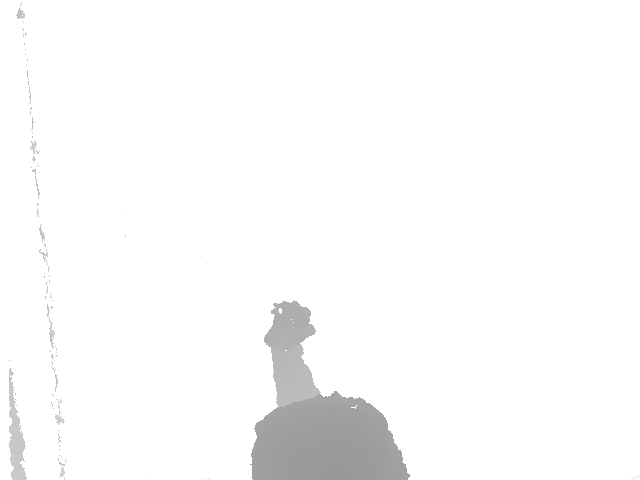hand: (264, 299, 317, 350)
head: (252, 392, 411, 480)
person: (252, 299, 412, 480)
